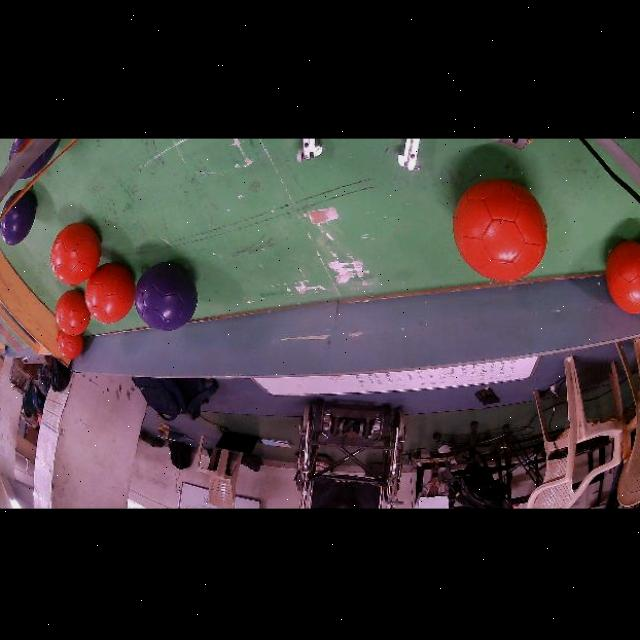P: (134, 263, 197, 331), (0, 192, 37, 246), (3, 192, 19, 211)
R: (453, 180, 548, 282), (50, 223, 100, 286), (85, 264, 135, 324), (606, 242, 640, 314), (55, 291, 91, 336), (57, 331, 84, 360)
